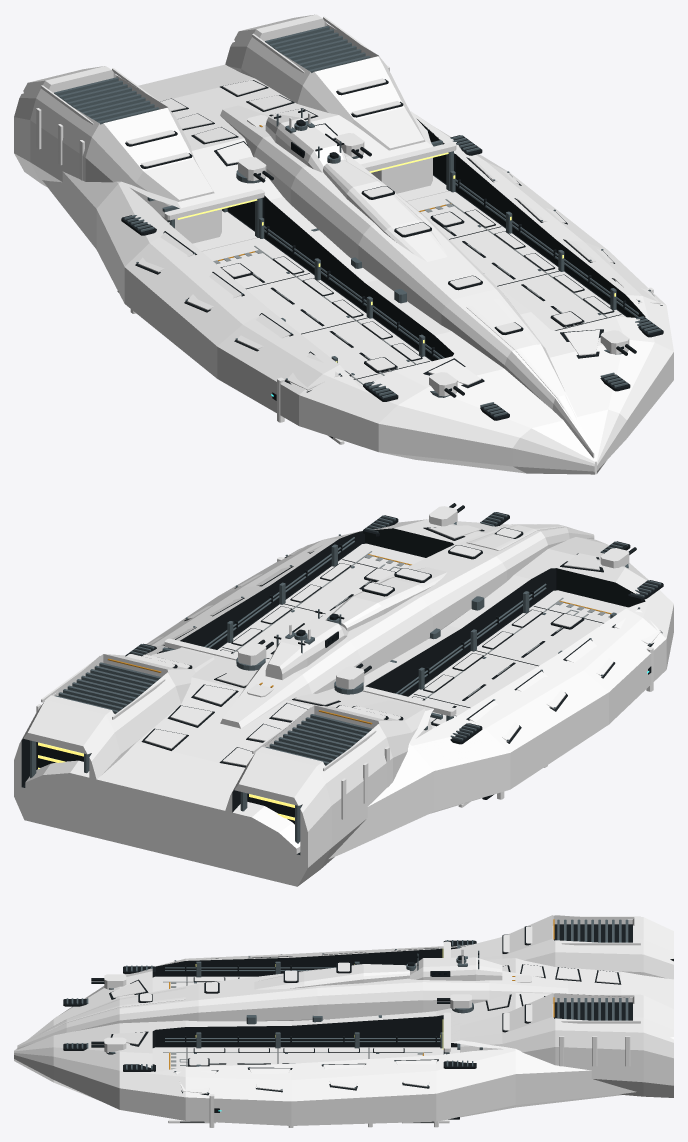
File: carrier-v27.glb
3 renders of one model, top to bottom at view 1: azimuth 30°, elevation 25°; view 2: azimuth 150°, elevation 25°; view 3: azimuth 270°, elevation 25°, orthographic. The views are drawn at different scales.
Parts seen in each view (by area): view 1: CarrierContinuousHull, MassiveAftEnginePod, LongArmoredCentralCitadel, RecessedFlightDeck, CitadelSensorTerrace, ForwardChineInlay, UncrewedSensorCrown, HangarArmoredLintel, HangarFloor, ForwardShoulderArmor, DefenseTurret, DefenseTurret.001 (+2 smaller); view 2: CarrierContinuousHull, MassiveAftEnginePod, LongArmoredCentralCitadel, RecessedFlightDeck, CitadelSensorTerrace, UncrewedSensorCrown, HangarArmoredLintel, DefenseTurret.001, EngineExhaustBack, DefenseTurret, ForwardChineInlay, RearSpinePanel.001 (+15 smaller); view 3: CarrierContinuousHull, MassiveAftEnginePod, LongArmoredCentralCitadel, RecessedFlightDeck, CitadelSensorTerrace, EngineTopVentBed, UncrewedSensorCrown, ForwardChineInlay, DefenseTurret, ForwardShoulderArmor, FlightDeckServicePipe, FlightDeckServicePipe.001 (+9 smaller).
Boxes of the visible parts, x1,y1,x2,y2 form: CarrierContinuousHull: (42, 64, 673, 474); MassiveAftEnginePod: (14, 14, 432, 243); LongArmoredCentralCitadel: (220, 105, 594, 458); RecessedFlightDeck: (202, 191, 626, 386); CitadelSensorTerrace: (323, 159, 447, 261); ForwardChineInlay: (466, 299, 579, 427); UncrewedSensorCrown: (265, 114, 347, 172); HangarArmoredLintel: (164, 142, 456, 220); HangarFloor: (193, 175, 448, 251); ForwardShoulderArmor: (428, 330, 599, 385); DefenseTurret: (429, 330, 629, 396); DefenseTurret.001: (238, 133, 364, 180); CarrierContinuousHull: (25, 519, 673, 878); MassiveAftEnginePod: (14, 648, 432, 886); LongArmoredCentralCitadel: (220, 524, 594, 728); RecessedFlightDeck: (217, 543, 628, 728); CitadelSensorTerrace: (325, 567, 447, 631); UncrewedSensorCrown: (265, 617, 348, 679); HangarArmoredLintel: (164, 638, 456, 716); DefenseTurret.001: (238, 642, 364, 689); EngineExhaustBack: (36, 742, 302, 824); DefenseTurret: (429, 506, 629, 568); ForwardChineInlay: (466, 524, 575, 550); RearSpinePanel.001: (194, 685, 307, 721); CarrierContinuousHull: (14, 944, 673, 1125); MassiveAftEnginePod: (460, 915, 673, 1097); LongArmoredCentralCitadel: (17, 969, 568, 1049); RecessedFlightDeck: (152, 976, 443, 1072); CitadelSensorTerrace: (254, 964, 409, 989); EngineTopVentBed: (554, 924, 632, 1020); UncrewedSensorCrown: (408, 957, 502, 980); ForwardChineInlay: (39, 987, 185, 1034); DefenseTurret: (104, 974, 126, 1052); ForwardShoulderArmor: (111, 980, 145, 1044); FlightDeckServicePipe: (165, 1041, 440, 1042); FlightDeckServicePipe.001: (165, 1038, 440, 1039).
Bounding box in the file's own units: 26 × 11 × 50.
